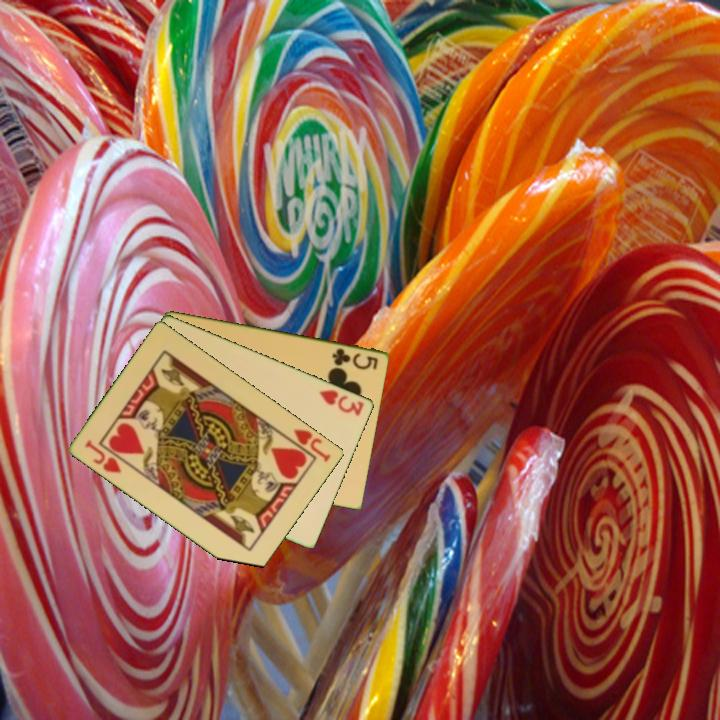3h: (316, 386, 367, 419)
5c: (329, 344, 381, 372)
Jh: (282, 425, 334, 465), (82, 436, 125, 476)
